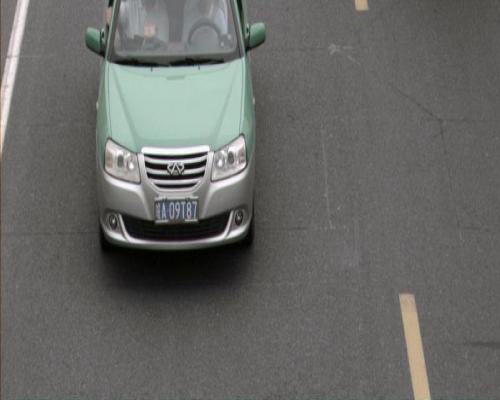Carplate: (148, 194, 203, 231)
